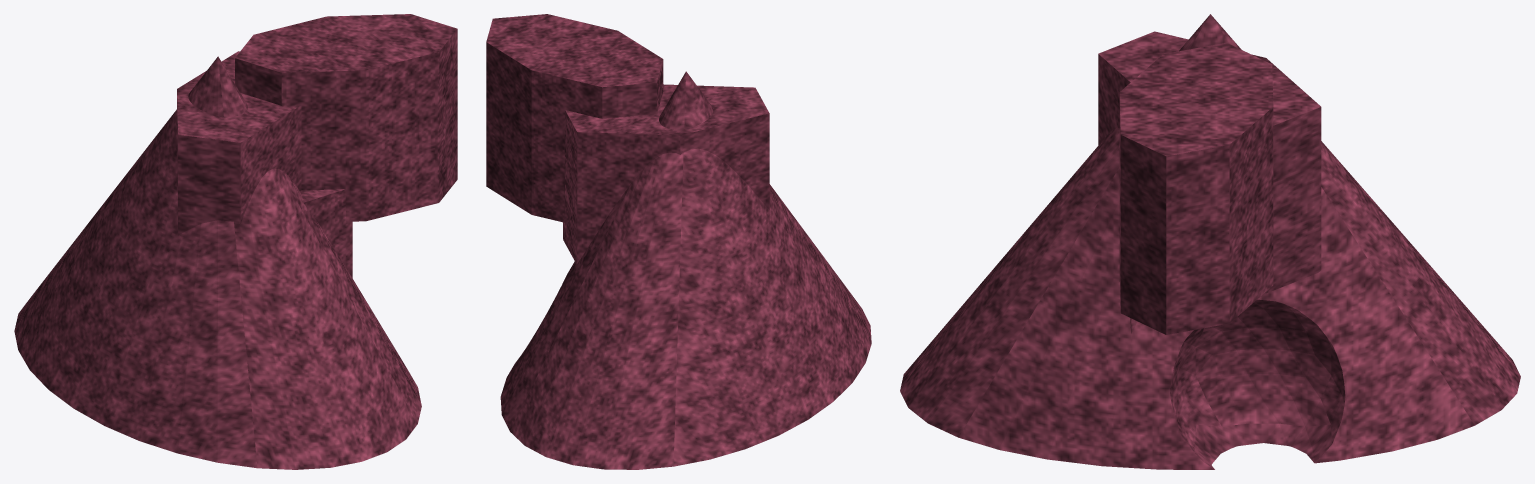
3 renders of one model, left to right at view 1: azimuth 30°, elevation 25°; view 2: azimuth 150°, elevation 25°; view 3: azimuth 270°, elevation 25°, orthographic. The views are drawn at different scales.
Visible parts, largest first — view 1: geometry_0; view 2: geometry_0; view 3: geometry_0.
Part boxes in pixels (bbox=[...]): geometry_0: bbox=[14, 14, 457, 469]; geometry_0: bbox=[486, 14, 871, 469]; geometry_0: bbox=[900, 14, 1520, 469].
Size of the model in its own units: 1.67 by 1.35 by 2.06.
1 material, 1 textured.
